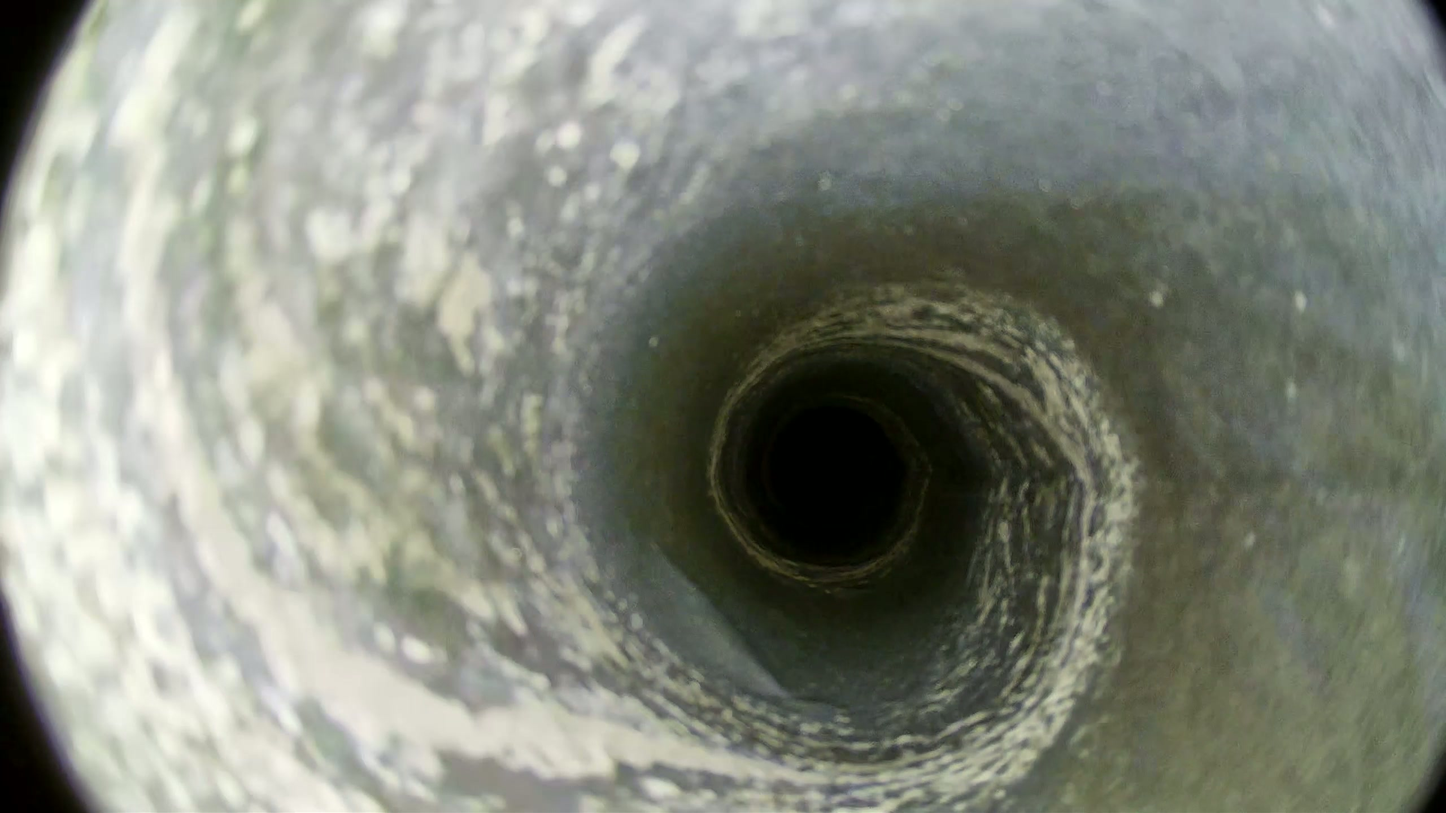hole: (771, 409, 885, 523)
